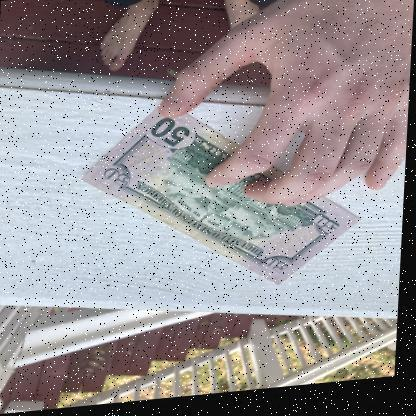dollar_back: (82, 103, 361, 290)
